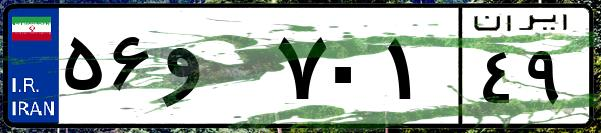0: (330, 28, 385, 110)
1: (385, 28, 445, 110)
4: (475, 38, 525, 113)
5: (57, 26, 110, 100)
6: (110, 28, 158, 98)
7: (270, 28, 330, 110)
9: (525, 38, 570, 115)
و: (158, 20, 270, 120)
